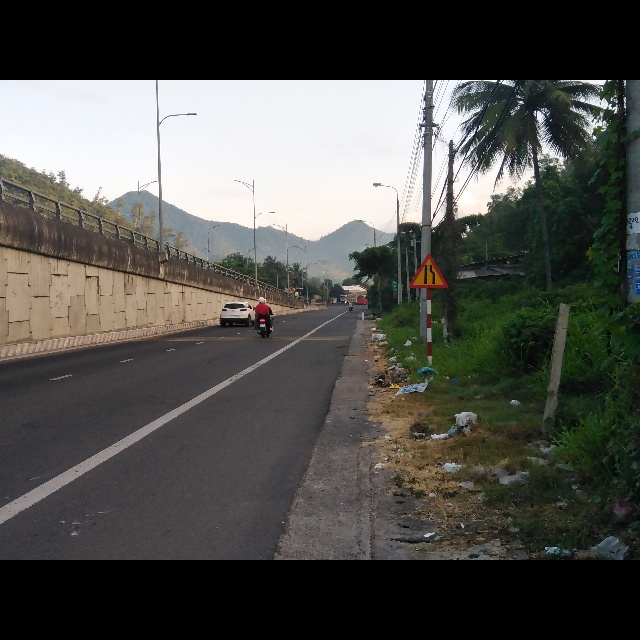Đường bị hẹp bên phải: (409, 253, 449, 289)
